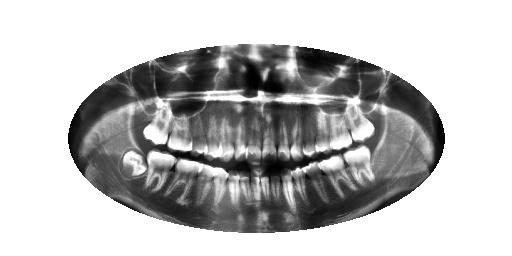Cavity: (260, 123, 279, 166), (280, 167, 298, 212), (278, 118, 292, 162)
